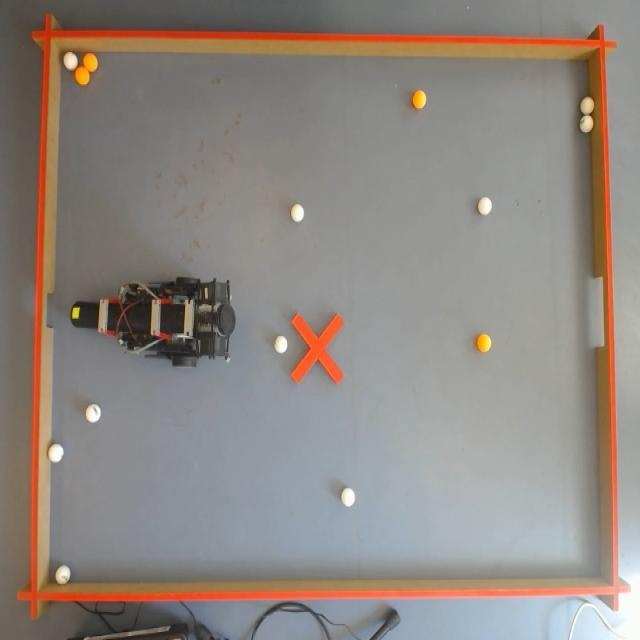orange: (412, 91, 428, 109), (85, 54, 98, 72), (75, 66, 87, 84), (476, 334, 489, 349)
robot: (78, 279, 236, 362)
white: (56, 566, 72, 587), (341, 487, 355, 509), (48, 443, 62, 463), (292, 202, 306, 222), (580, 115, 594, 135), (273, 334, 286, 354), (478, 198, 492, 216), (87, 405, 100, 424), (581, 96, 594, 115), (64, 52, 76, 70)
